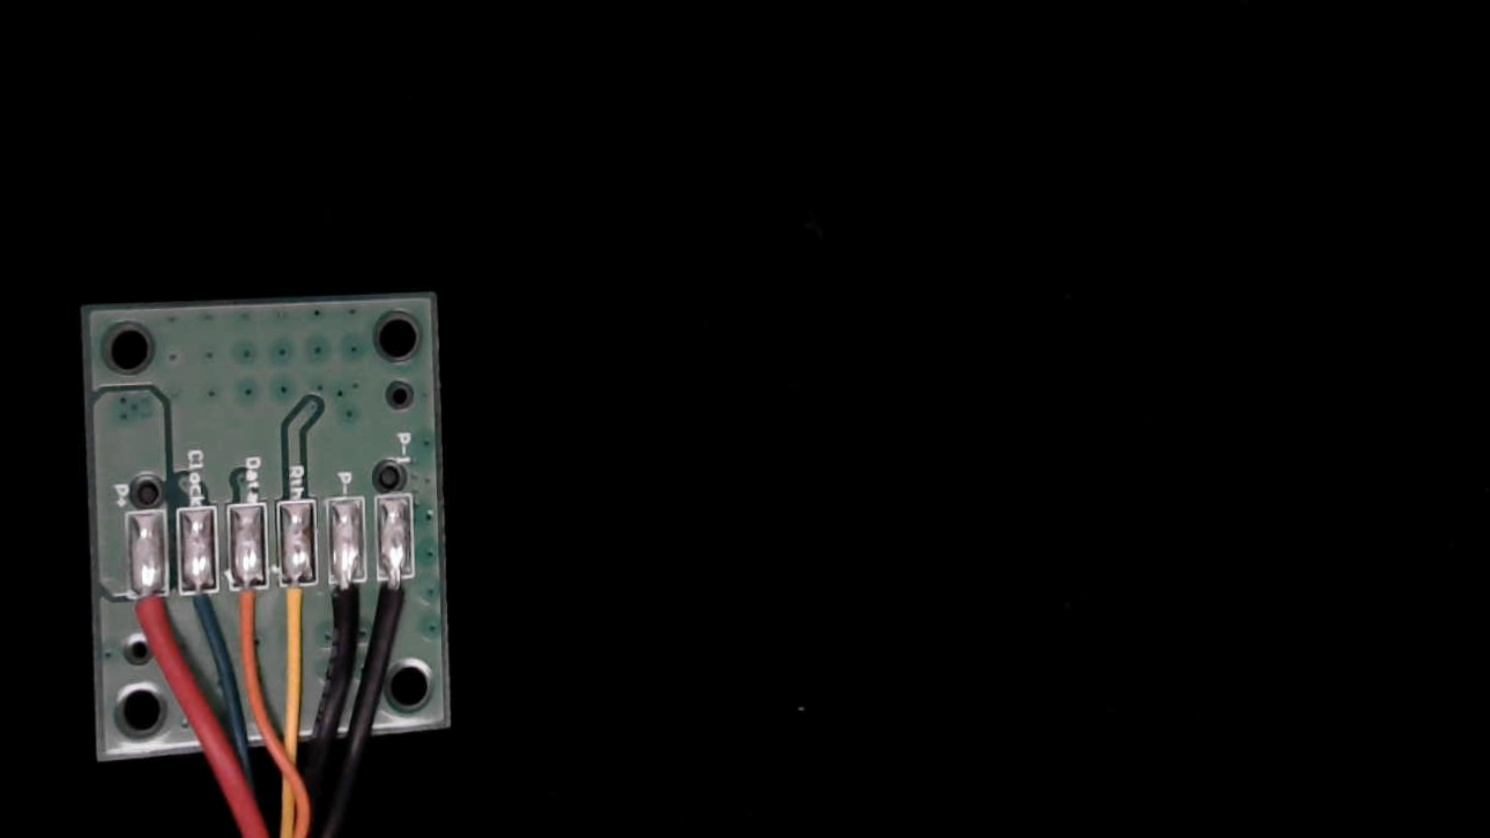Black: (327, 561, 366, 647)
Black1: (376, 558, 417, 648)
Green: (177, 570, 219, 649)
Orange: (227, 567, 265, 649)
Red: (125, 574, 169, 668)
Yellow: (278, 565, 320, 649)
